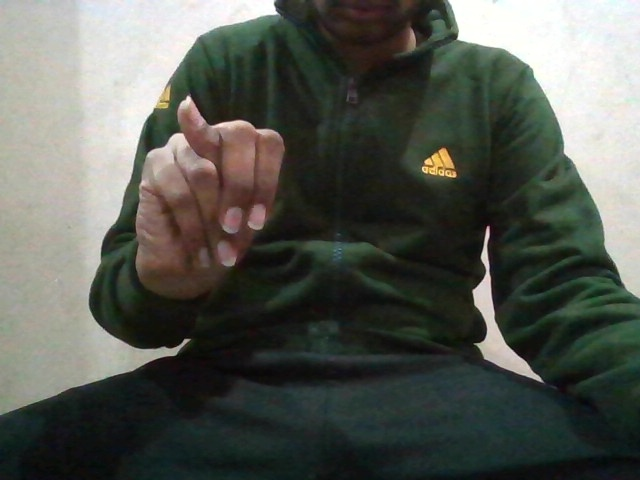N: (125, 90, 288, 289)
